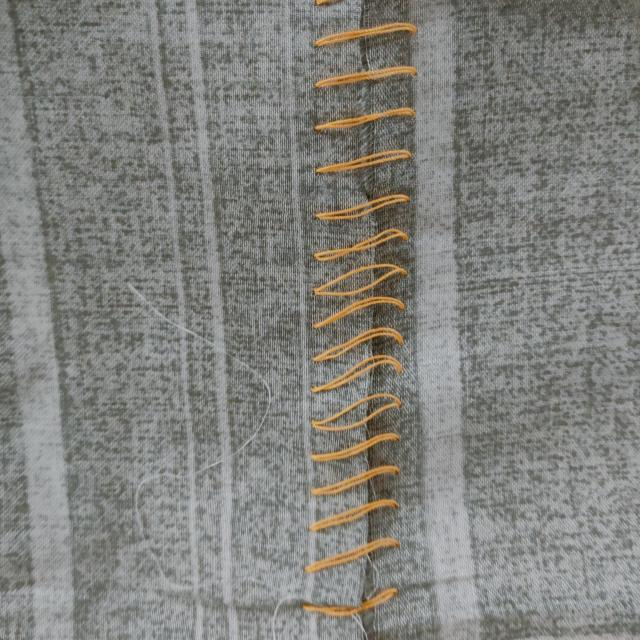gray stitch: (301, 0, 427, 640)
